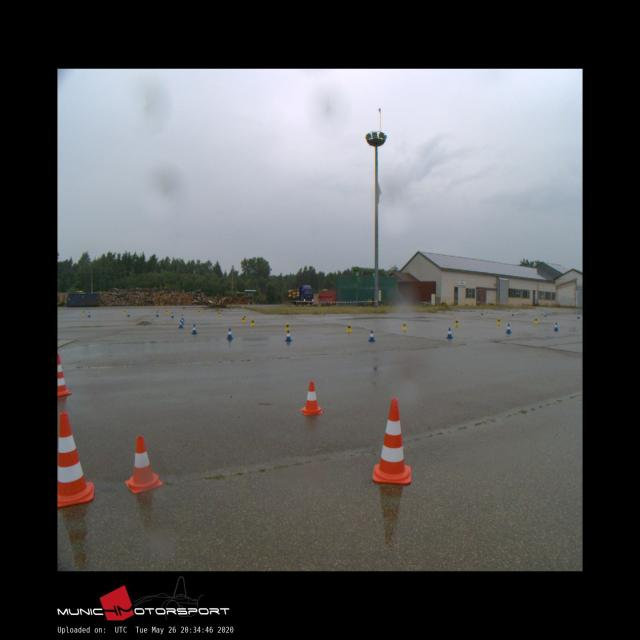blue_cone: (226, 328, 233, 338), (368, 330, 375, 340), (285, 330, 291, 340), (446, 328, 452, 338), (506, 323, 511, 333), (192, 324, 197, 334), (553, 322, 559, 330), (178, 320, 183, 328)
large_orange_cone: (58, 412, 94, 507), (372, 398, 411, 482), (58, 353, 70, 397)
orange_cone: (125, 436, 161, 493), (300, 381, 322, 415)
yellow_cone: (347, 322, 352, 332), (285, 322, 290, 330), (454, 318, 459, 325), (402, 322, 407, 329), (250, 318, 255, 325), (242, 316, 246, 323), (534, 317, 538, 323), (497, 318, 501, 324)
